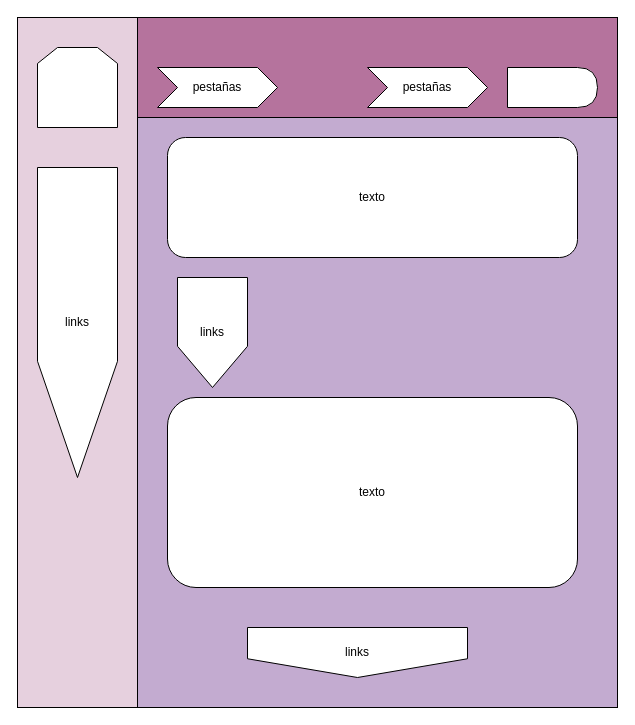
Image size: 635x725. Some labels were removed from this diagram. The box of each missing label's shape, as (x1, y1, x2, y2) in pixels:
buscador: (506, 66, 598, 108)
imagen: (36, 46, 118, 128)
